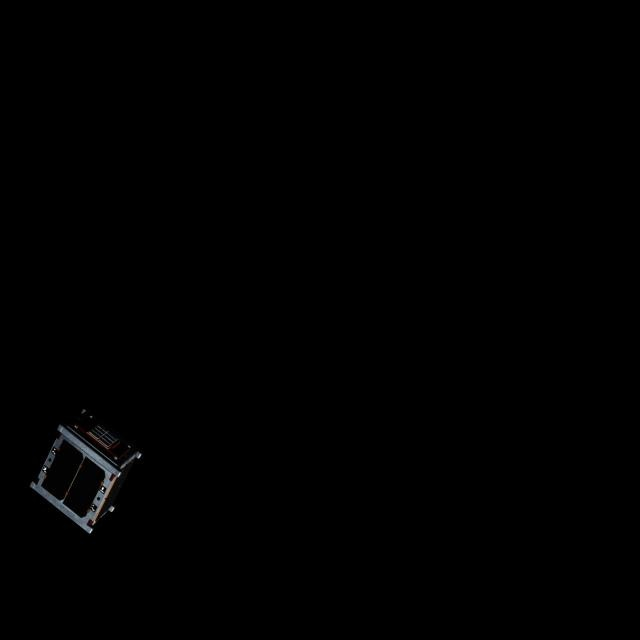satellite: (26, 402, 153, 537)
